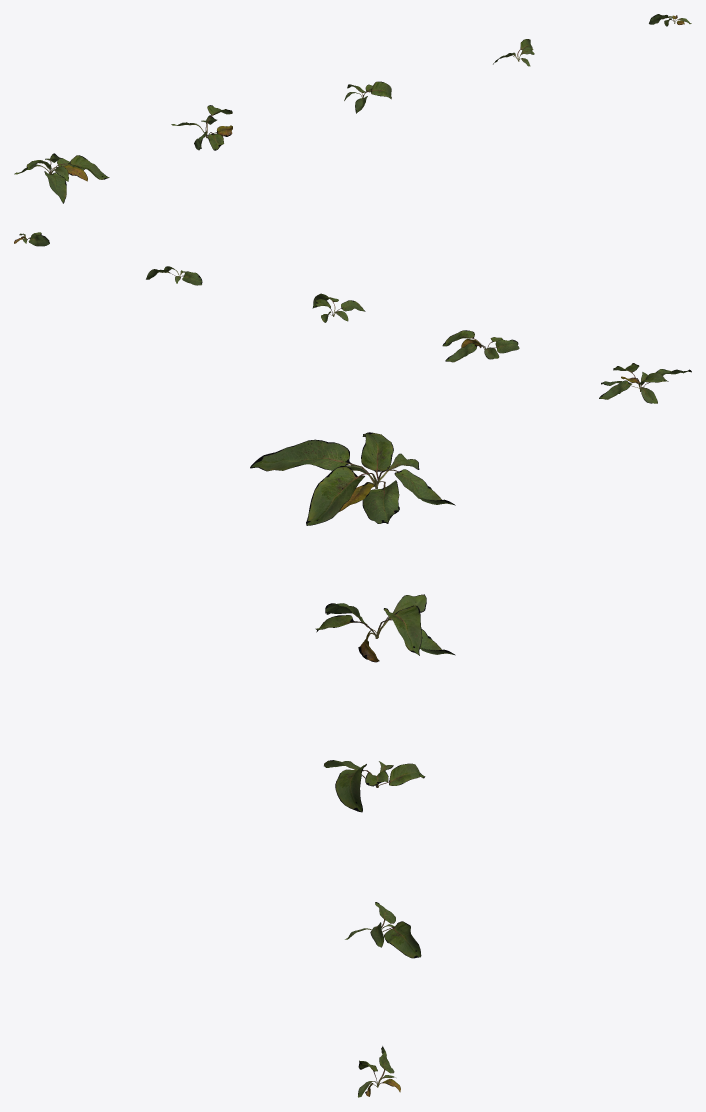
File: weed_plant_02_1k.glb
3 renders of one model, top to bottom at view 1: azimuth 30°, elevation 25°; view 2: azimuth 150°, elevation 25°; view 3: azimuth 270°, elevation 25°, orthographic. The views are drawn at different scales.
Visible parts, largest first — view 1: weed_plant_02_a_LOD0, weed_plant_02_c_LOD0; view 2: weed_plant_02_a_LOD0, weed_plant_02_c_LOD0; view 3: weed_plant_02_a_LOD0, weed_plant_02_c_LOD0.
Boxes of the visible parts, left/top/right/bottom form: weed_plant_02_a_LOD0: left=14, top=14, right=691, bottom=203; weed_plant_02_c_LOD0: left=344, top=81, right=391, bottom=113; weed_plant_02_a_LOD0: left=14, top=232, right=691, bottom=403; weed_plant_02_c_LOD0: left=312, top=293, right=365, bottom=322; weed_plant_02_a_LOD0: left=250, top=432, right=455, bottom=1097; weed_plant_02_c_LOD0: left=324, top=760, right=425, bottom=812.
Bounding box in the file's own units: 2.13 × 0.075 × 0.2908.
1 material, 1 textured.
